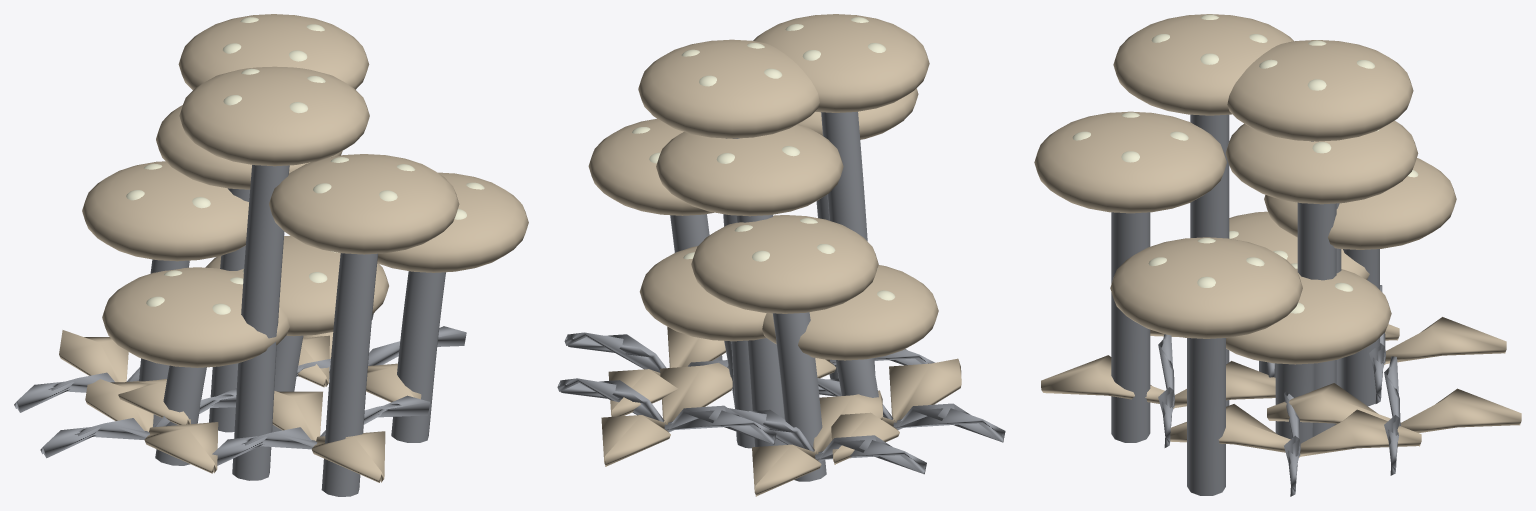
The model's file is bio_spore_fungus_15_near.glb.
3 views of the same model, side by side, from view 1: azimuth 30°, elevation 25°; view 2: azimuth 150°, elevation 25°; view 3: azimuth 270°, elevation 25° (orthographic). The views are drawn at different scales.
Visible parts, largest first — view 1: Thick umbrella cap.002, Thick umbrella cap.007, Thick umbrella cap.004, Thick umbrella cap.001, Curved stipe.007, Thick umbrella cap.003, Curved stipe.002, Thick umbrella cap.005, Curved stipe.005, Thick umbrella cap, Low buttress leaf.017, Low buttress leaf.009 (+12 smaller); view 2: Thick umbrella cap.001, Thick umbrella cap.003, Thick umbrella cap.006, Thick umbrella cap.007, Thick umbrella cap.004, Thick umbrella cap, Thick umbrella cap.005, Low buttress leaf.013, Low buttress leaf.017, Curved stipe.001, Low buttress leaf.005, Low buttress leaf.012 (+14 smaller); view 3: Thick umbrella cap.005, Thick umbrella cap.002, Thick umbrella cap.003, Thick umbrella cap.007, Thick umbrella cap.006, Thick umbrella cap, Thick umbrella cap.001, Curved stipe.002, Curved stipe.005, Low buttress leaf.013, Low buttress leaf.001, Low buttress leaf.009 (+14 smaller).
Part boxes in pixels (<box>): Thick umbrella cap.002: <box>269,154,459,254</box>; Thick umbrella cap.007: <box>179,66,369,166</box>; Thick umbrella cap.004: <box>102,267,289,367</box>; Thick umbrella cap.001: <box>82,161,248,261</box>; Curved stipe.007: <box>232,165,289,480</box>; Thick umbrella cap.003: <box>178,14,369,89</box>; Curved stipe.002: <box>321,253,377,496</box>; Thick umbrella cap.005: <box>377,172,528,272</box>; Curved stipe.005: <box>391,271,445,442</box>; Thick umbrella cap: <box>205,235,388,336</box>; Low buttress leaf.017: <box>85,375,218,473</box>; Low buttress leaf.009: <box>272,391,385,482</box>; Thick umbrella cap.001: <box>691,215,878,313</box>; Thick umbrella cap.003: <box>638,39,819,138</box>; Thick umbrella cap.006: <box>656,124,843,216</box>; Thick umbrella cap.007: <box>753,14,929,112</box>; Thick umbrella cap.004: <box>762,265,938,360</box>; Thick umbrella cap: <box>639,246,766,341</box>; Thick umbrella cap.005: <box>588,119,713,215</box>; Low buttress leaf.013: <box>601,362,732,466</box>; Low buttress leaf.017: <box>831,358,961,464</box>; Curved stipe.001: <box>772,312,826,481</box>; Low buttress leaf.005: <box>752,390,883,496</box>; Low buttress leaf.012: <box>557,378,776,444</box>; Thick umbrella cap.005: <box>1110,237,1302,338</box>; Thick umbrella cap.002: <box>1034,111,1226,213</box>; Thick umbrella cap.003: <box>1227,40,1413,141</box>; Thick umbrella cap.007: <box>1113,14,1293,115</box>; Thick umbrella cap.006: <box>1225,120,1418,204</box>; Thick umbrella cap: <box>1226,268,1391,364</box>; Thick umbrella cap.001: <box>1264,158,1456,249</box>; Curved stipe.002: <box>1111,212,1150,442</box>; Curved stipe.005: <box>1187,338,1225,495</box>; Low buttress leaf.013: <box>1267,383,1521,432</box>; Low buttress leaf.001: <box>1170,404,1421,457</box>; Low buttress leaf.009: <box>1041,355,1275,408</box>.
Size of the model in its own units: 2.25 by 1.87 by 2.12.
